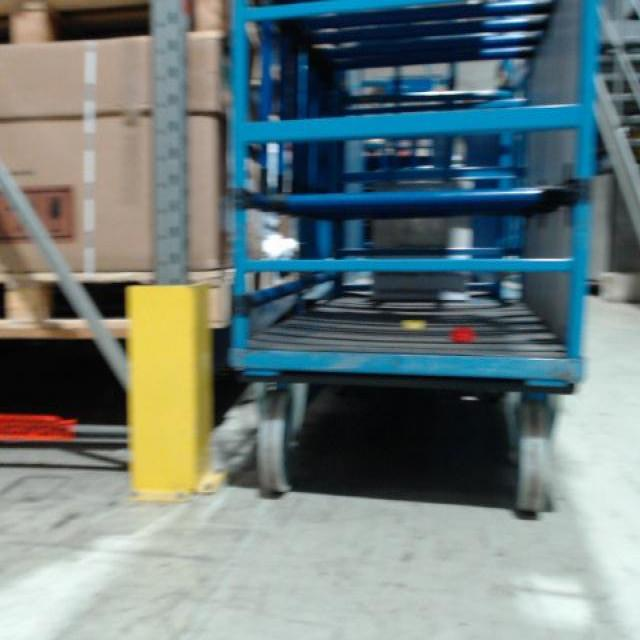pallet: (0, 269, 235, 343)
